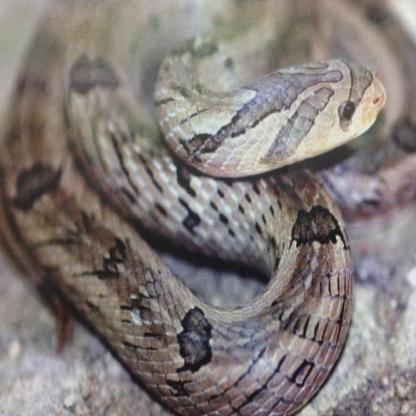snakes: (16, 0, 395, 410)
